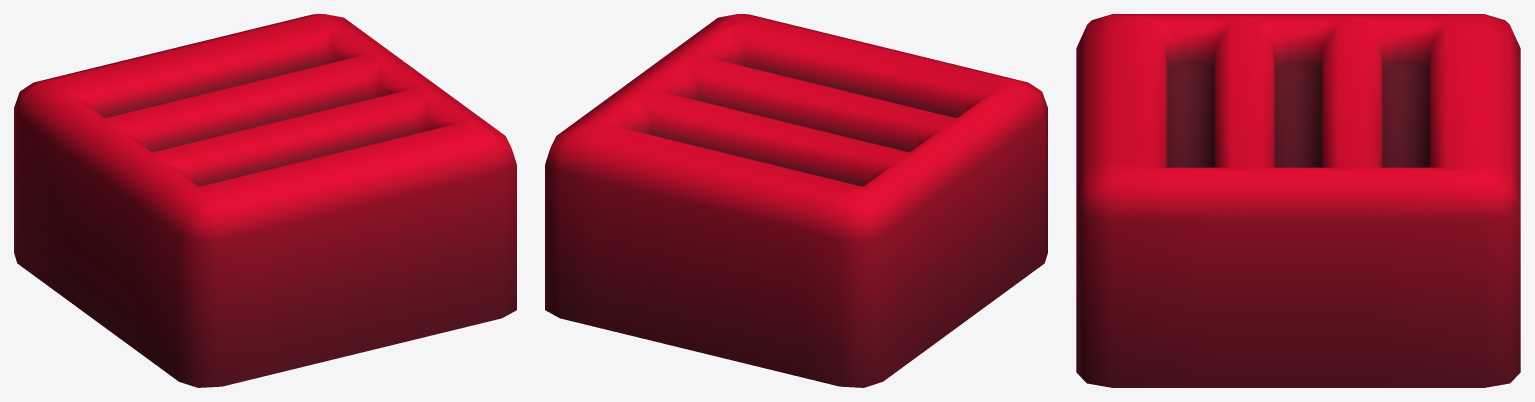
File: ButtonMainMenu.fbx
3 views of the same model, side by side, from view 1: azimuth 30°, elevation 25°; view 2: azimuth 150°, elevation 25°; view 3: azimuth 270°, elevation 25° (orthographic). The views are drawn at different scales.
Visible parts, largest first — view 1: MainMenu; view 2: MainMenu; view 3: MainMenu.
Boxes of the visible parts, box(x1,y1,x2,y2) form: MainMenu: box(14, 14, 516, 387); MainMenu: box(545, 14, 1047, 387); MainMenu: box(1076, 14, 1520, 387).
Size of the model in its own units: 1 by 0.4979 by 1.
